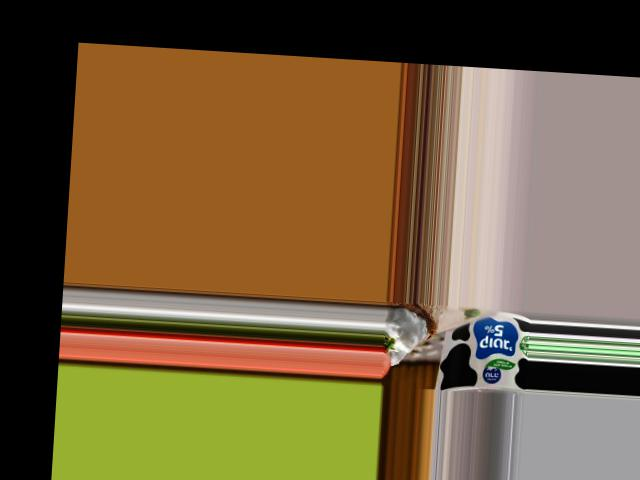cotage: (439, 310, 530, 395)
